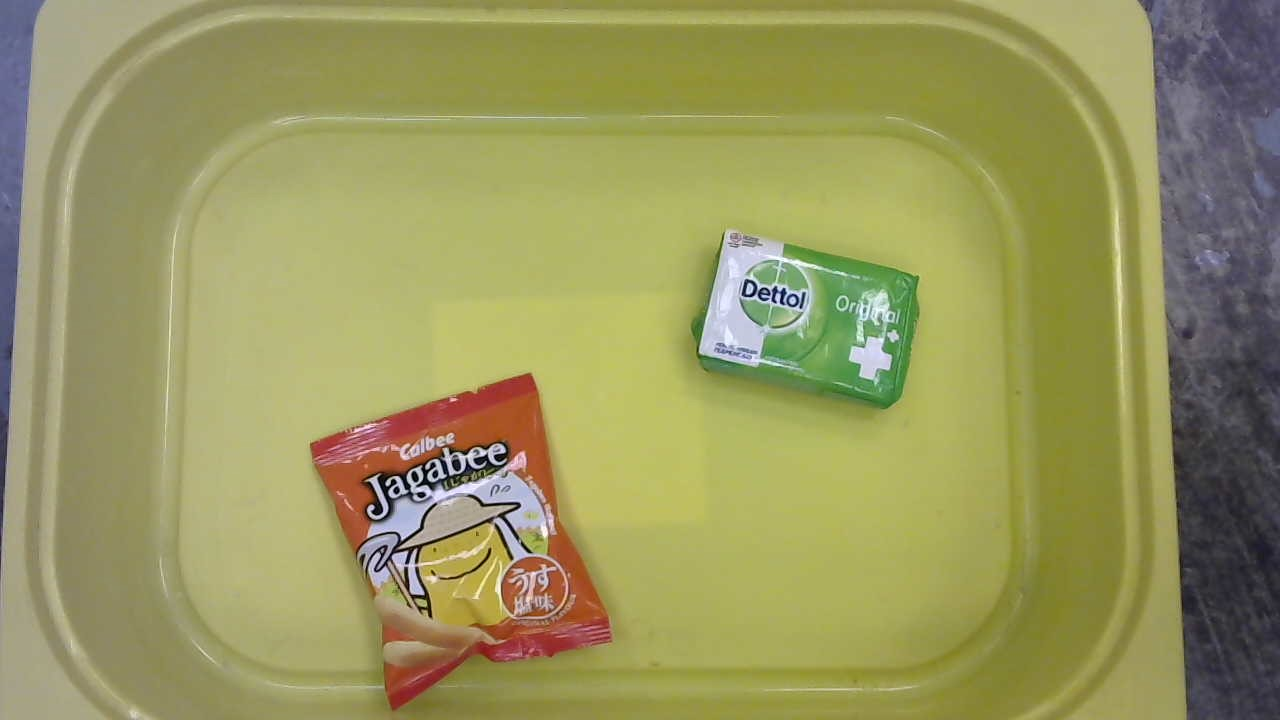Dettol: (679, 232, 927, 413)
JagabeeFarmer: (303, 368, 619, 713)
